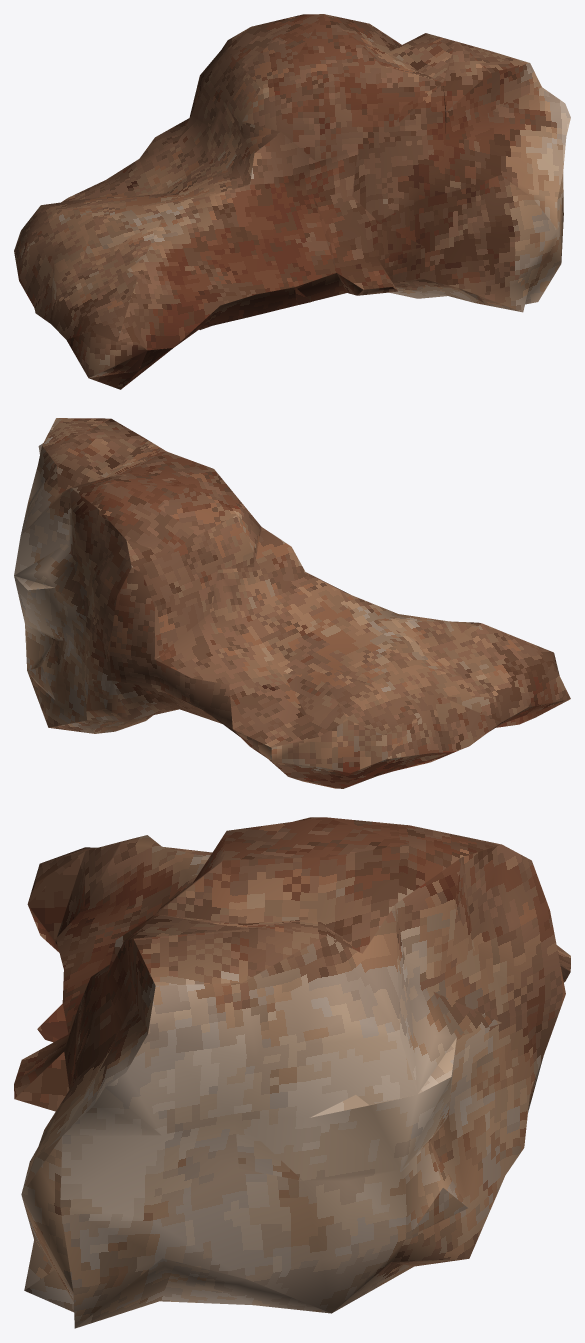
The model's file is stone_01.glb.
3 renders of one model, top to bottom at view 1: azimuth 30°, elevation 25°; view 2: azimuth 150°, elevation 25°; view 3: azimuth 270°, elevation 25°, orthographic. The views are drawn at different scales.
Visible parts, largest first — view 1: mesh; view 2: mesh; view 3: mesh.
Part boxes in pixels (left/top/right/bottom): mesh: left=14, top=14, right=570, bottom=389; mesh: left=14, top=418, right=570, bottom=788; mesh: left=14, top=817, right=570, bottom=1328.
Bounding box in the file's own units: 0.1435 × 0.0719 × 0.0849.
Materials: 1 (1 with a texture image).
